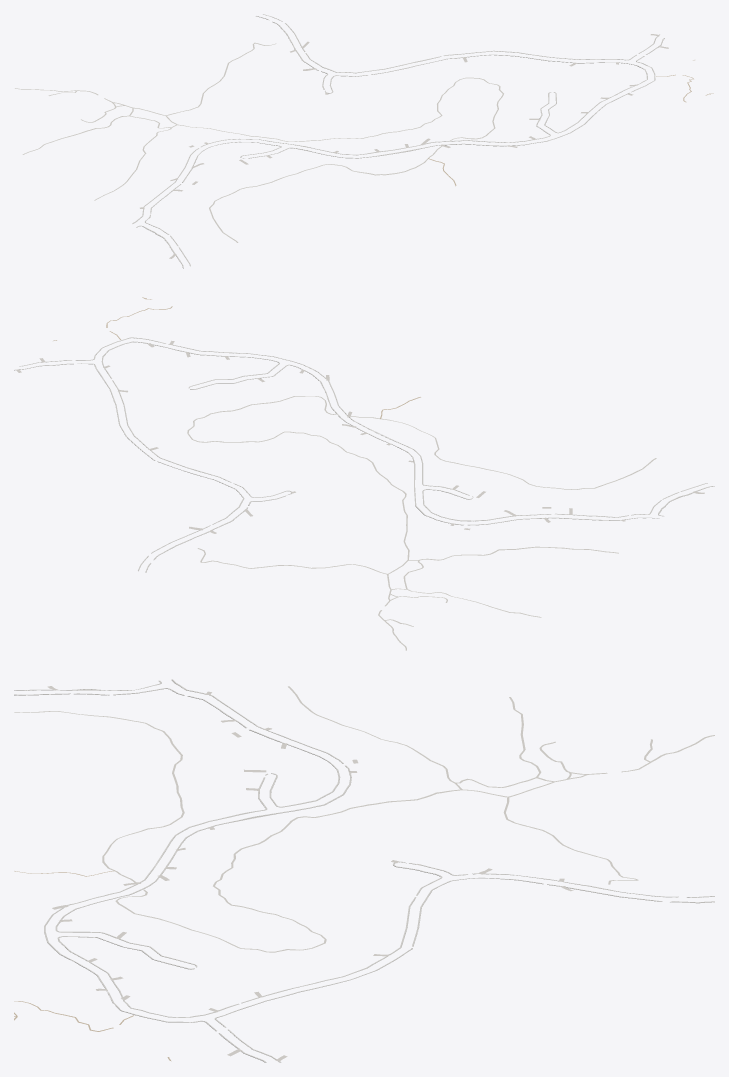
The model's file is ground_r7_c2.glb.
The picture shows the model from 3 angles, top to bottom: view 1: azimuth 30°, elevation 25°; view 2: azimuth 150°, elevation 25°; view 3: azimuth 270°, elevation 25°; orthographic projection. The views are drawn at different scales.
Visible parts, largest first — view 1: sidewalks, paths, driveways; view 2: sidewalks, paths, driveways; view 3: sidewalks, paths, driveways.
Part boxes in pixels (<box>): sidewalks: <box>132,14,664,268</box>; paths: <box>15,42,713,242</box>; driveways: <box>140,34,668,258</box>; sidewalks: <box>14,337,714,572</box>; paths: <box>53,297,656,650</box>; driveways: <box>16,340,704,533</box>; sidewalks: <box>14,679,714,1062</box>; paths: <box>14,686,714,1061</box>; driveways: <box>47,686,573,1061</box>.
Bounding box in the file's own units: 1130 × 94.76 × 788.
